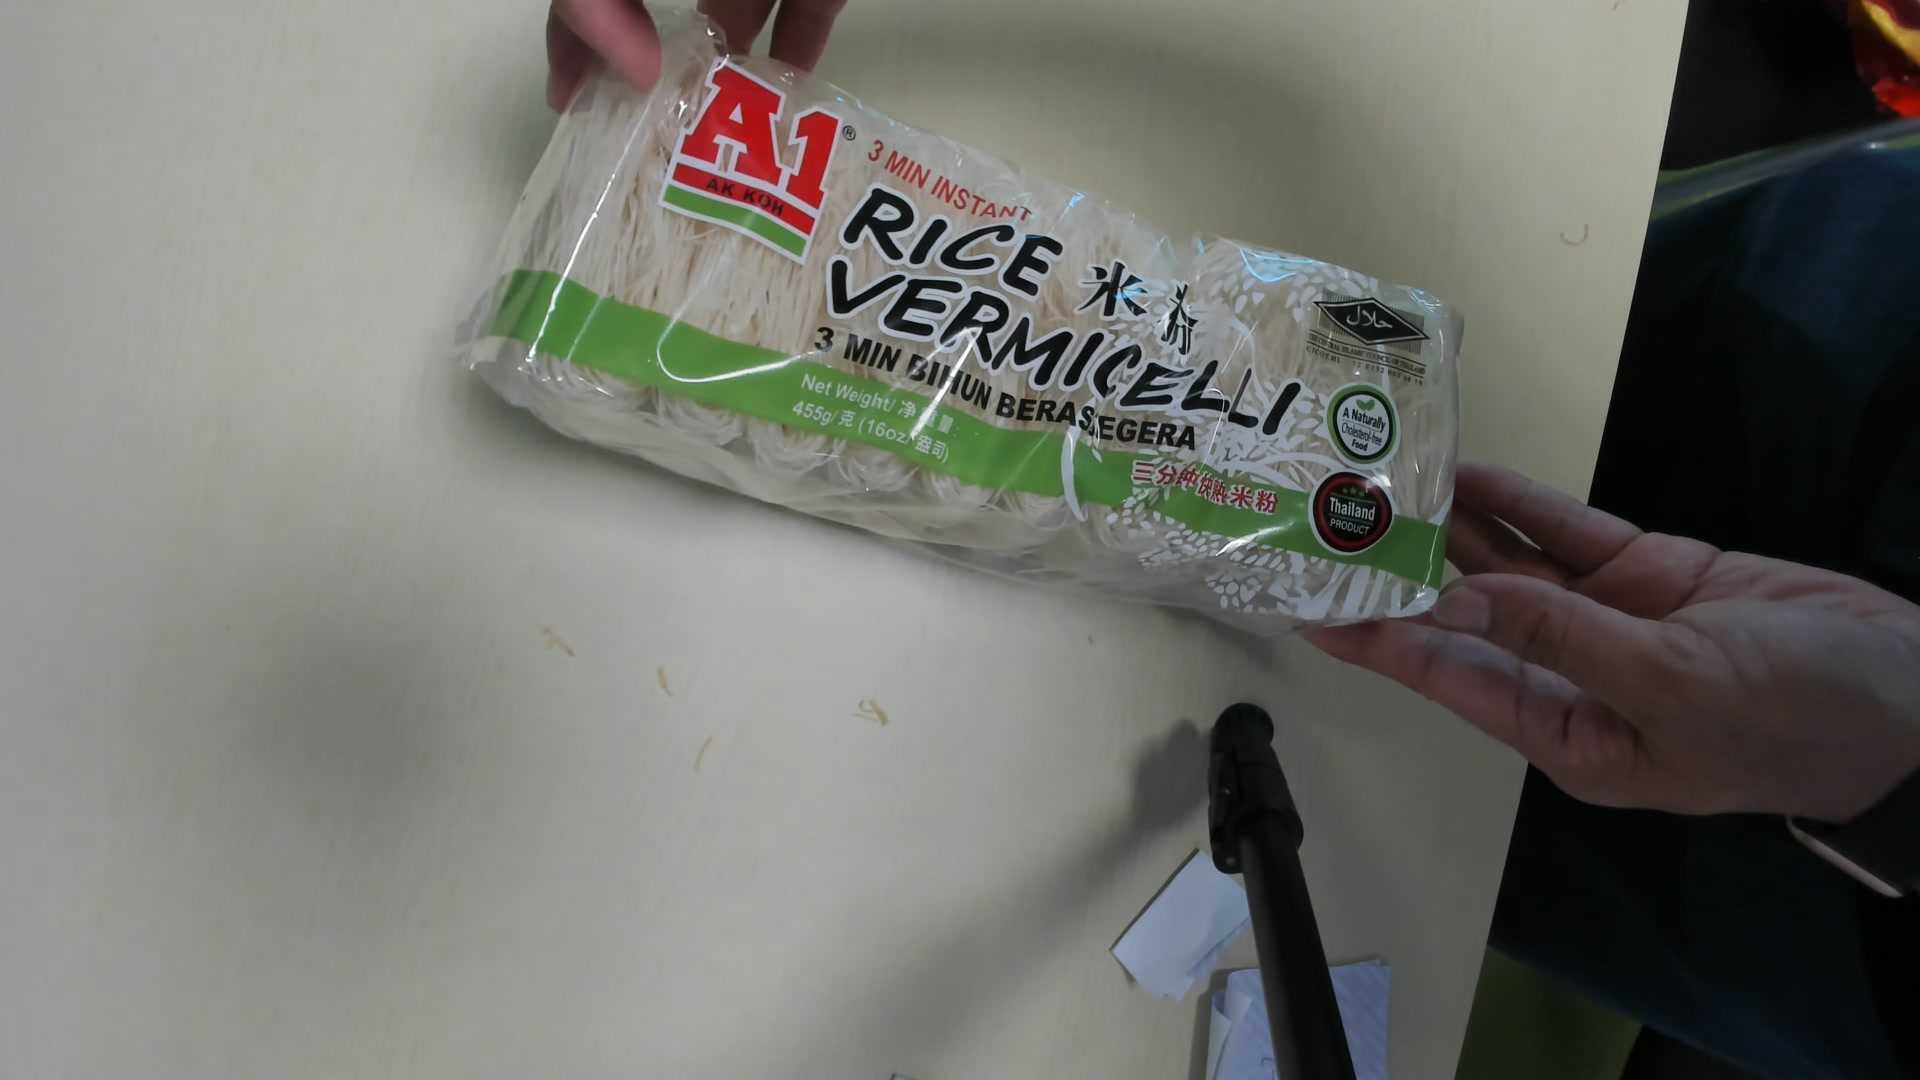BeeHoonVermicelli_400-499g_Halal_NonHealthy: (471, 16, 1462, 628)
